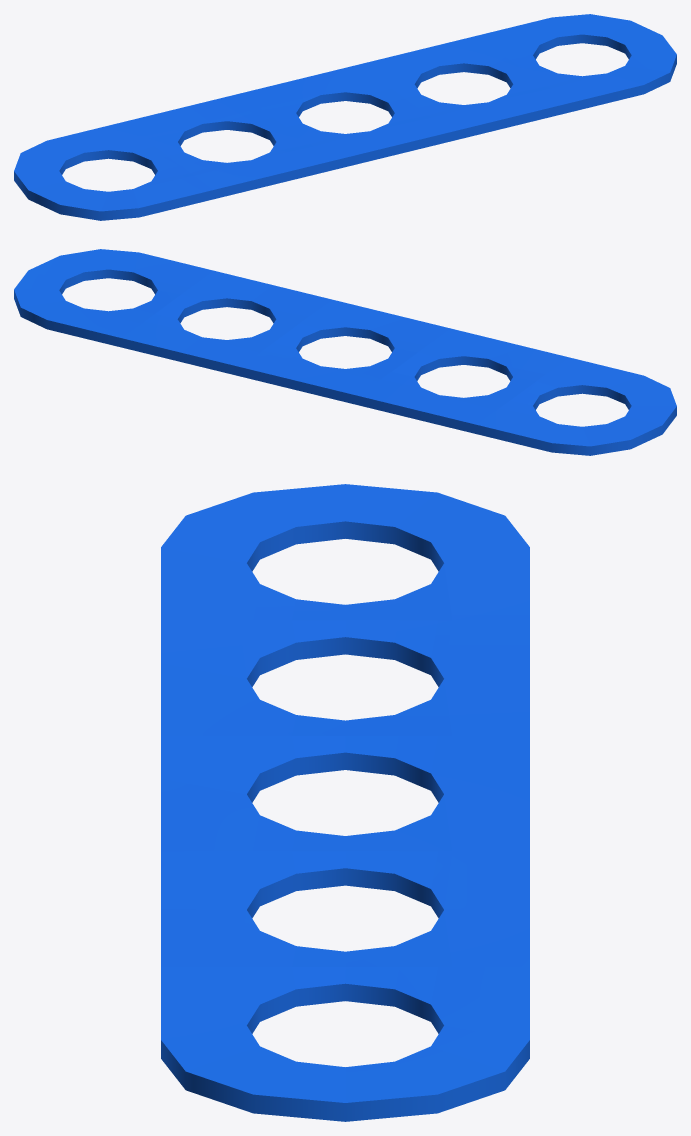
Rendered from FiveLongBlue.fbx.
3 views of the same model, one above another, from view 1: azimuth 30°, elevation 25°; view 2: azimuth 150°, elevation 25°; view 3: azimuth 270°, elevation 25° (orthographic). The views are drawn at different scales.
Visible parts, largest first — view 1: Blue5; view 2: Blue5; view 3: Blue5.
Part boxes in pixels (x1,y1,x2,y2): Blue5: (14,14,676,220); Blue5: (14,249,676,455); Blue5: (161,484,529,1121).
Size of the model in its own units: 13.69 by 0.1942 by 3.45.
